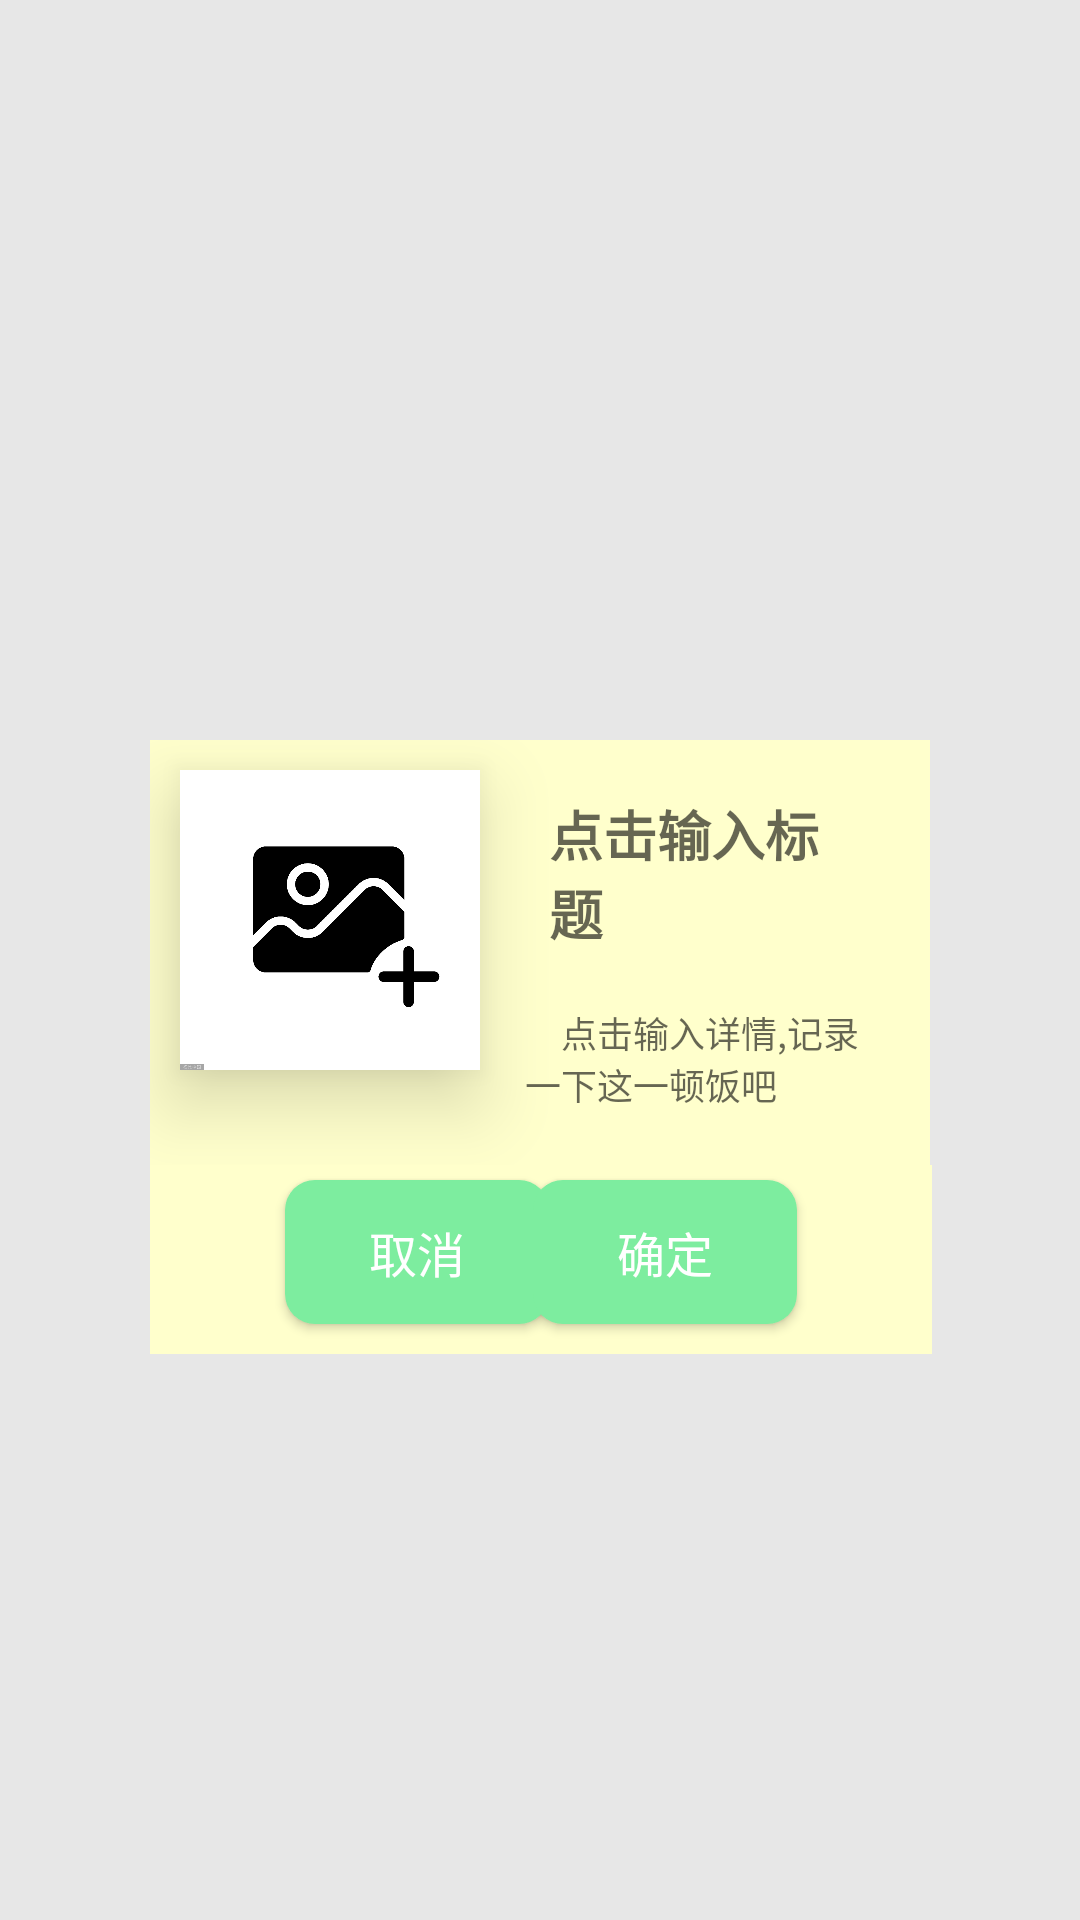

Where to tap for icons on this 1080px x 1920px app screen, as point (x, y):
add pic: point (330, 920)
